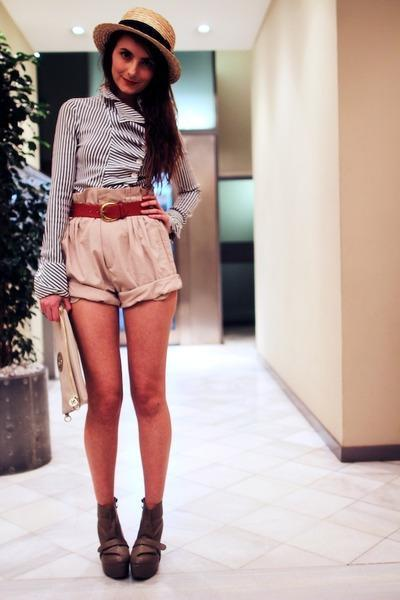hat: (88, 0, 185, 80)
shirt: (27, 91, 196, 299)
shoe: (97, 497, 165, 581)
shorts: (61, 216, 179, 323)
